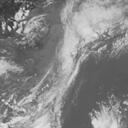cyclone: (41, 43, 82, 115)
